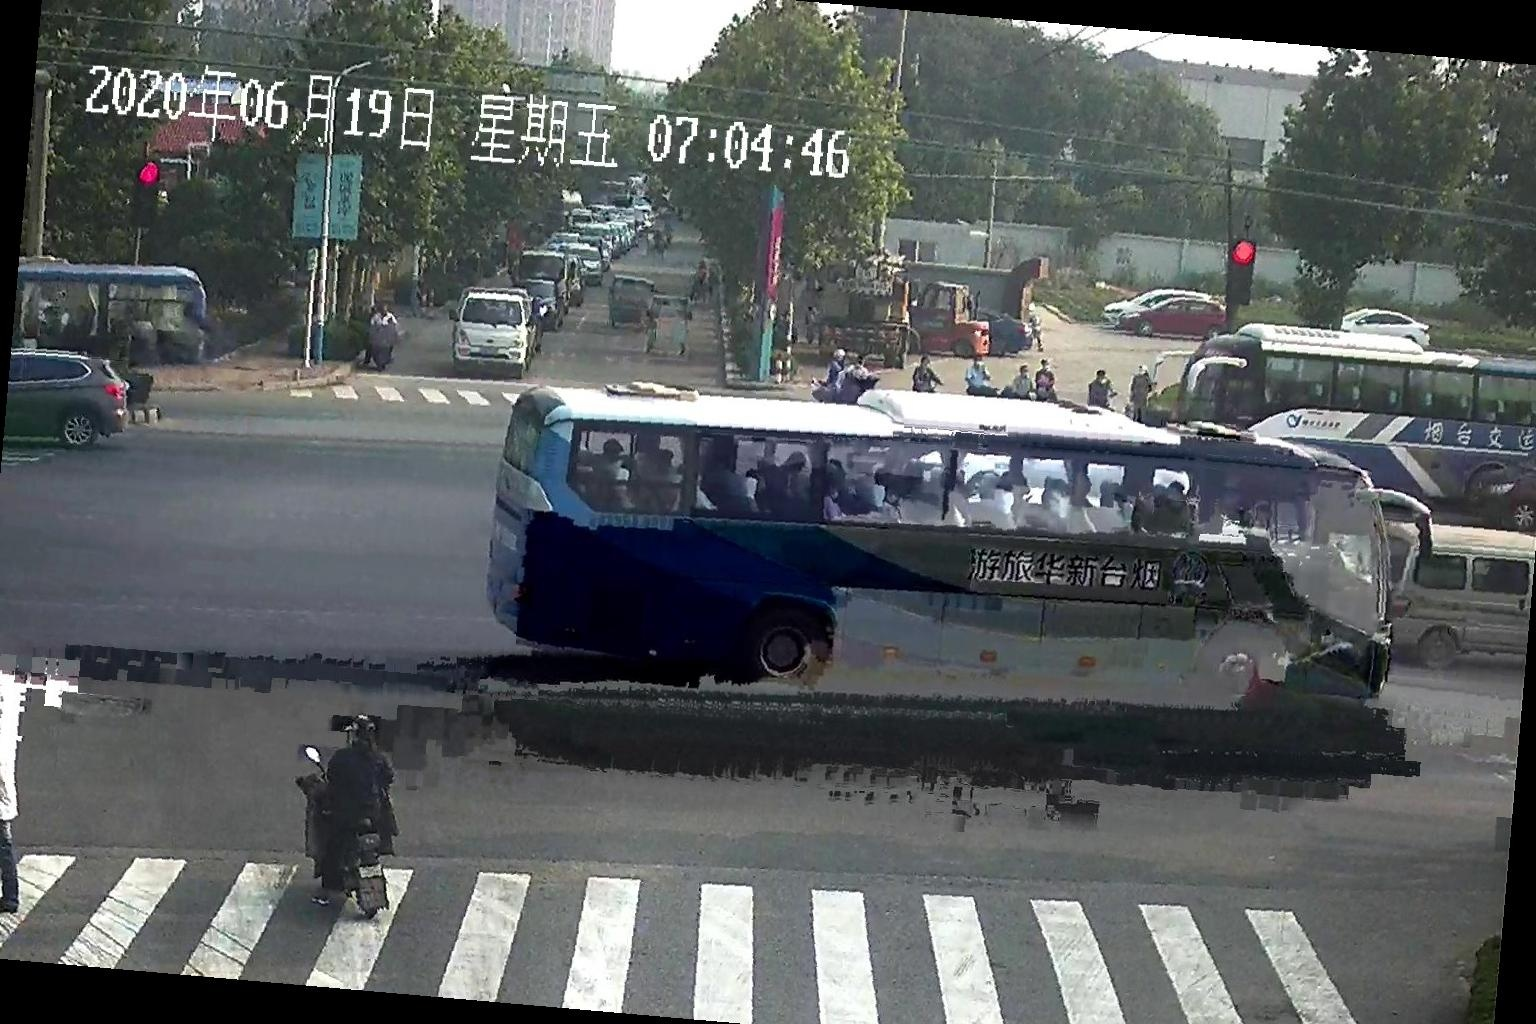red: (1223, 235, 1277, 280), (133, 155, 177, 195)
